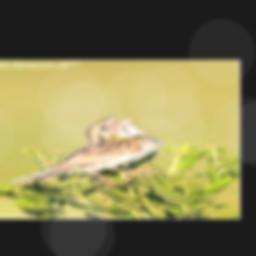Sparrow: (2, 114, 159, 186)
